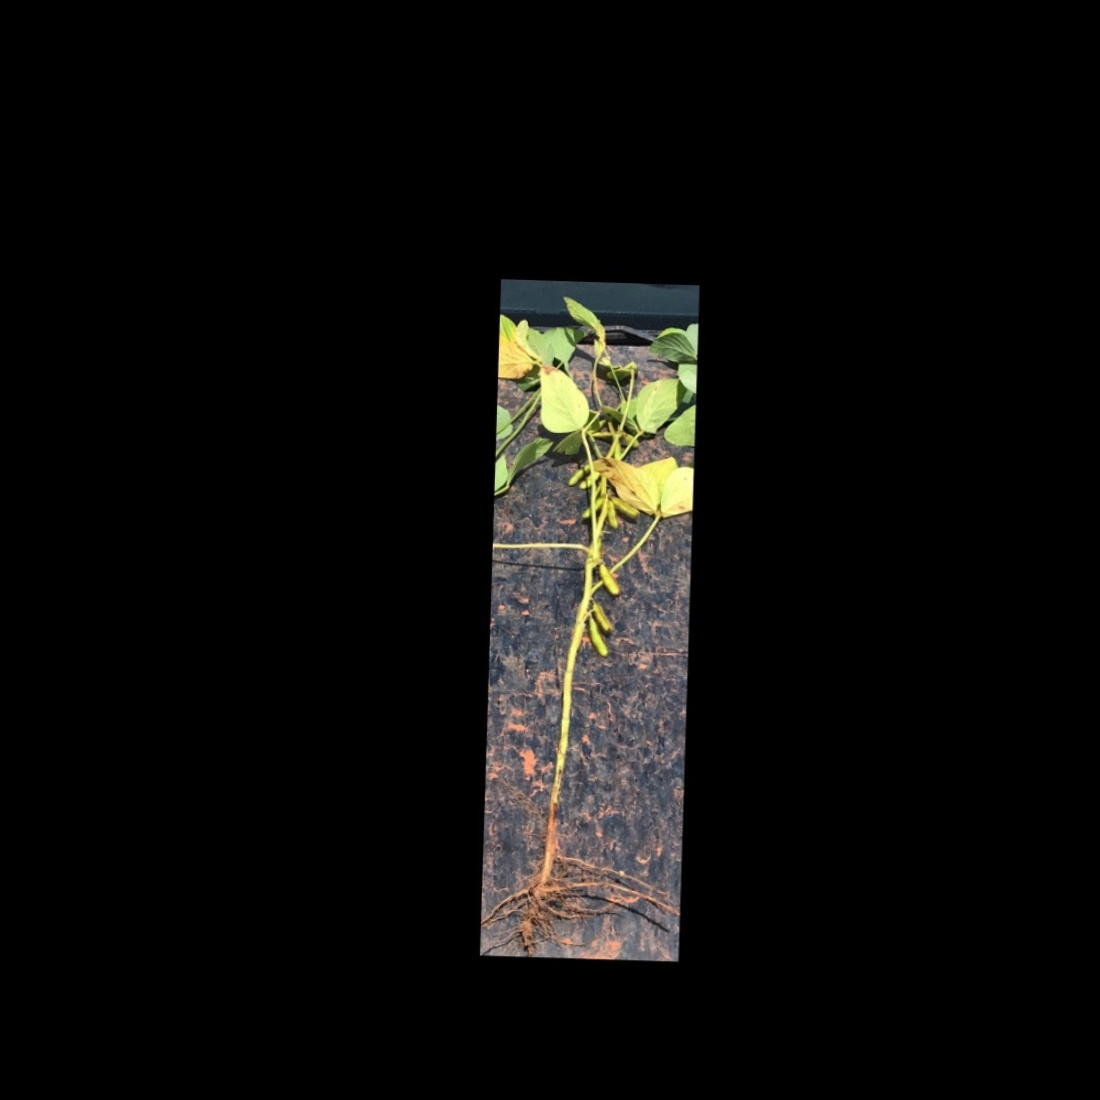pod: (581, 613, 611, 660), (591, 560, 623, 600), (588, 602, 615, 636), (564, 460, 592, 491), (576, 491, 604, 520), (609, 496, 643, 520), (578, 467, 604, 495), (617, 429, 643, 448)
soy: (489, 298, 692, 938)
